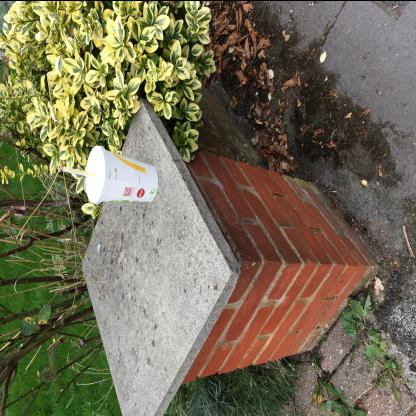karton: (85, 145, 159, 204)
plastik: (62, 164, 98, 178)
